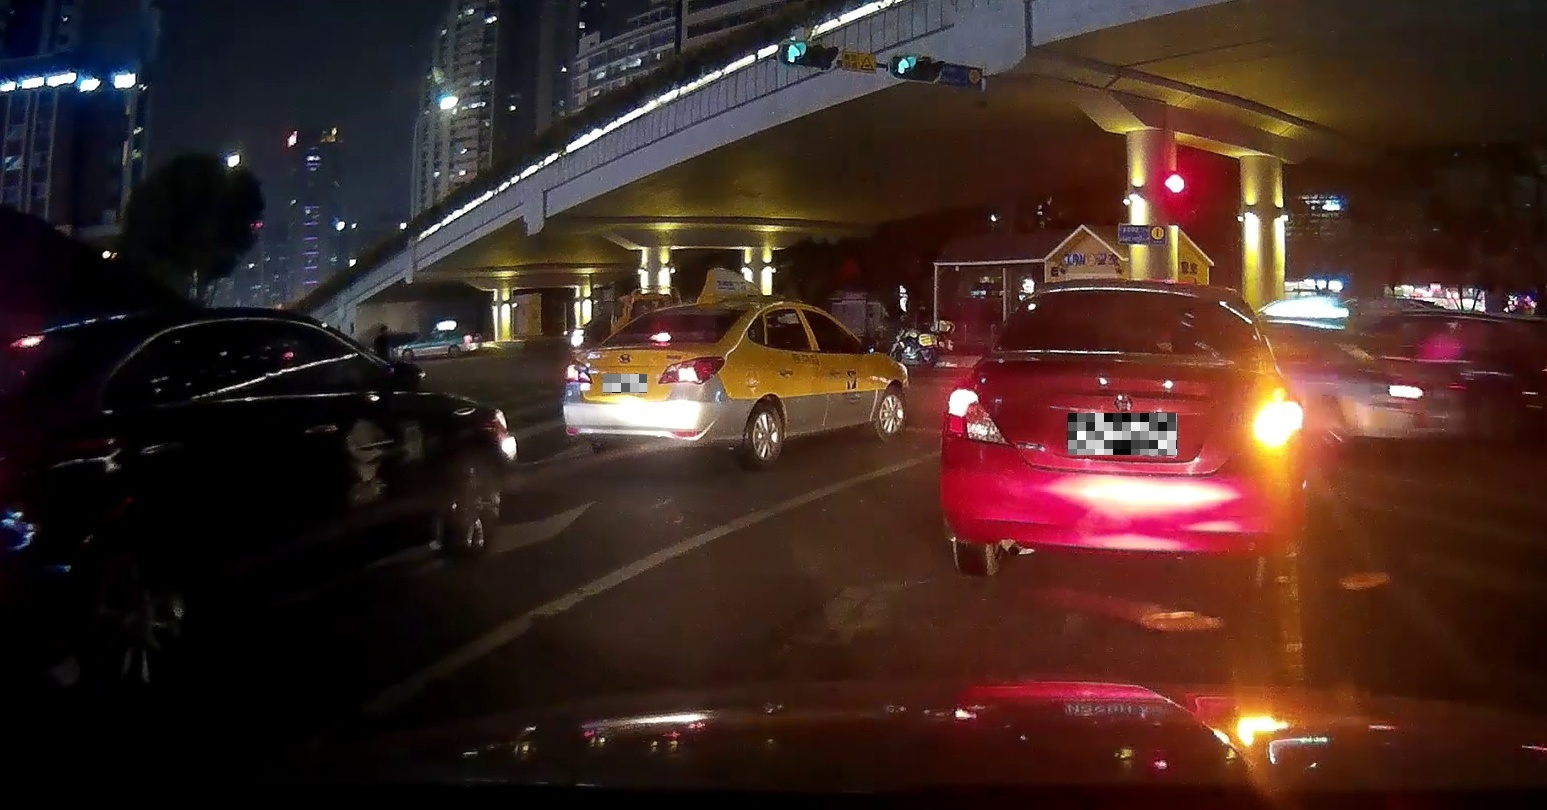L_light: (942, 387, 1016, 447), (564, 358, 593, 384)
R_light: (1251, 399, 1303, 451), (657, 356, 725, 385)
T_light: (1108, 289, 1164, 296), (649, 334, 671, 342)
night-brake: (562, 302, 746, 471)
night-right: (939, 277, 1305, 579)
plate_1: (603, 374, 647, 393)
plate_2: (1068, 413, 1177, 455)
